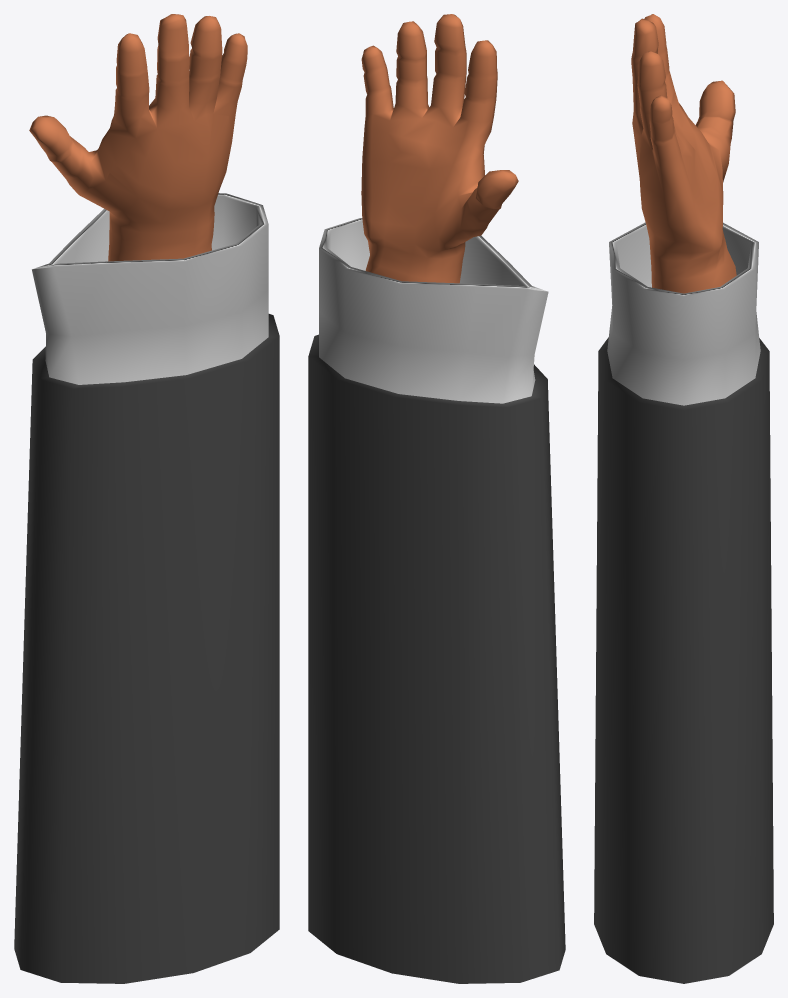
The model's file is tinyHand.fbx.
The picture shows the model from 3 angles, left to right: view 1: azimuth 30°, elevation 25°; view 2: azimuth 150°, elevation 25°; view 3: azimuth 270°, elevation 25°; orthographic projection. The views are drawn at different scales.
Parts seen in each view (by area): view 1: polySurface2, polySurface1; view 2: polySurface2, polySurface1; view 3: polySurface2, polySurface1.
Part boxes in pixels (box(x1,y1,x2,y2)): polySurface2: box(14, 193, 279, 983); polySurface1: box(29, 14, 247, 261); polySurface2: box(308, 218, 565, 983); polySurface1: box(361, 14, 518, 283); polySurface2: box(594, 222, 773, 983); polySurface1: box(631, 14, 736, 293).
Bounding box in the file's own units: 10.97 × 38.87 × 6.98.
